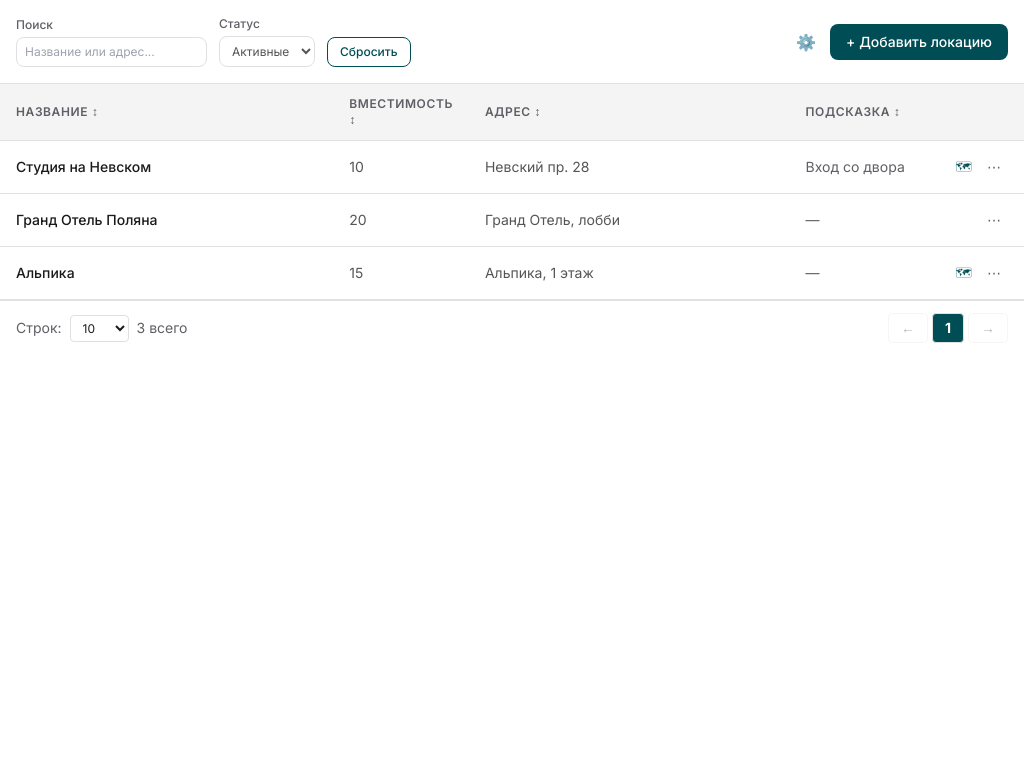
Test: LocationsTable › opens DeleteDialog with the 409 dependency tree when delete conflicts
This screenshot has width=1024, height=768.
Check: the text "Студия на Невском" is shown, box left=16, top=158, right=151, bottom=175
Check: the text "Гранд Отель Поляна" is shown, box left=16, top=211, right=158, bottom=228
Click the button named "Действия".
click(994, 167)  # box left=980, top=153, right=1008, bottom=181
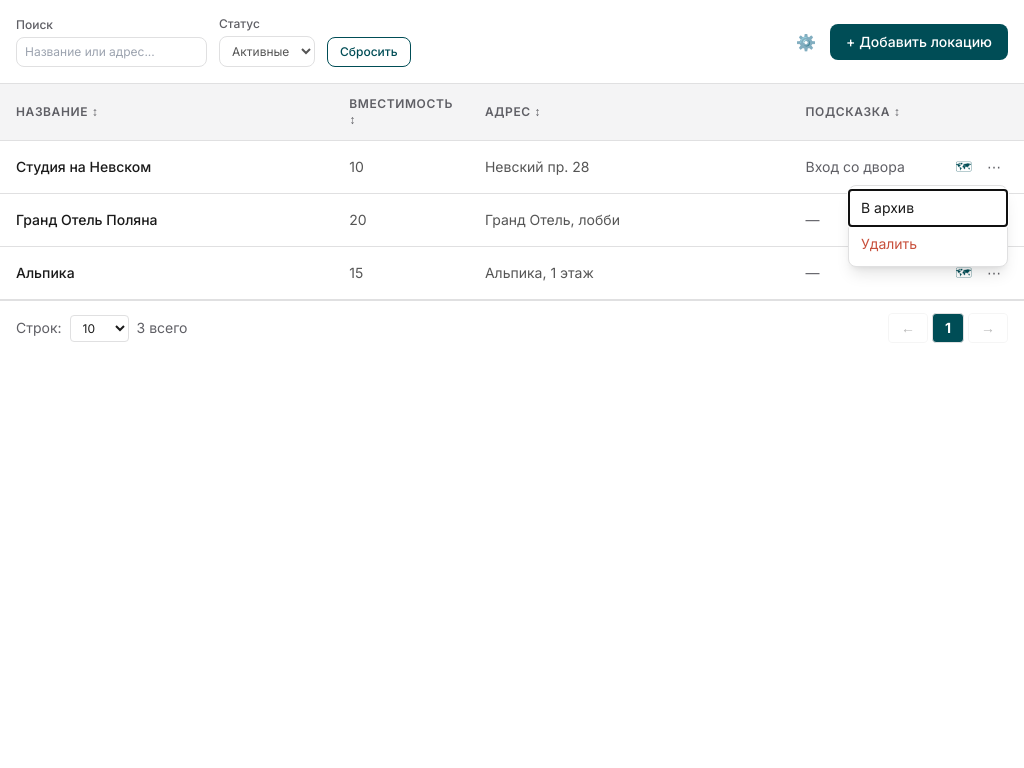
Click the menu item "Удалить".
click(928, 244)  # box left=849, top=226, right=1007, bottom=262
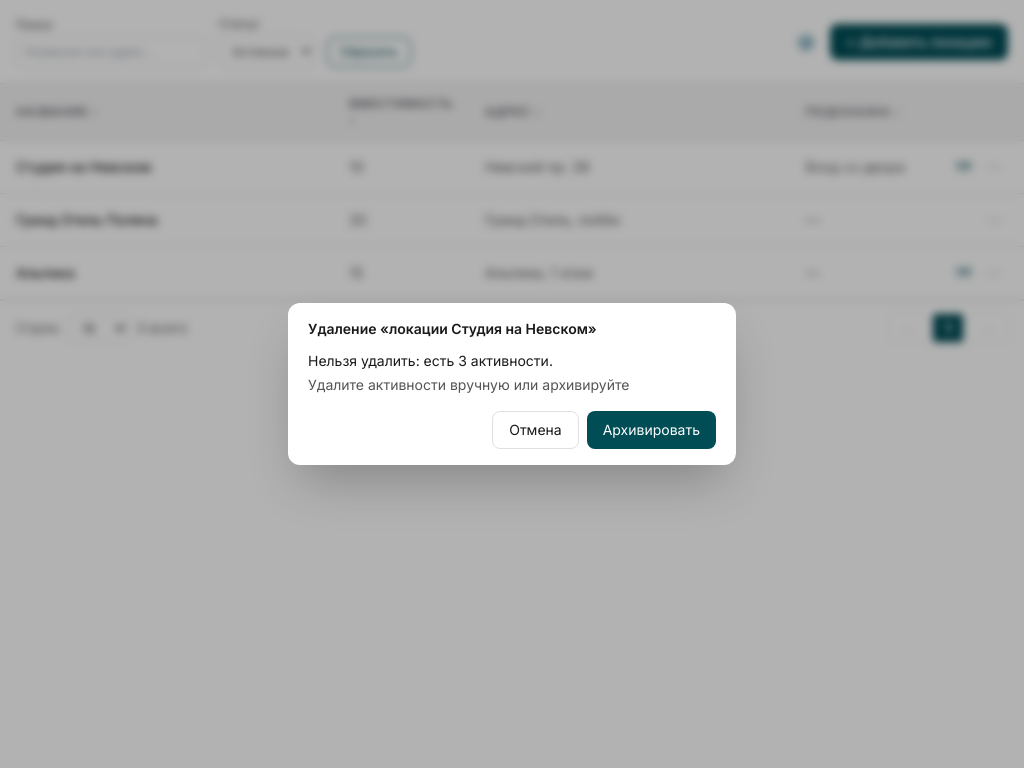
Check: the element with test id "delete-dialog" is shown, box left=288, top=303, right=736, bottom=465
Check: the heading with test id "delete-dialog-title" shows "Студия на Невском", box left=308, top=320, right=597, bottom=337
